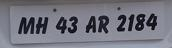1: (127, 13, 135, 33)
2: (117, 13, 127, 34)
3: (67, 16, 80, 37)
4: (53, 15, 68, 35), (146, 12, 159, 32)
8: (135, 12, 147, 35)
A: (84, 15, 98, 34)
H: (35, 16, 48, 36)
M: (17, 14, 36, 35)
R: (98, 13, 111, 35)
